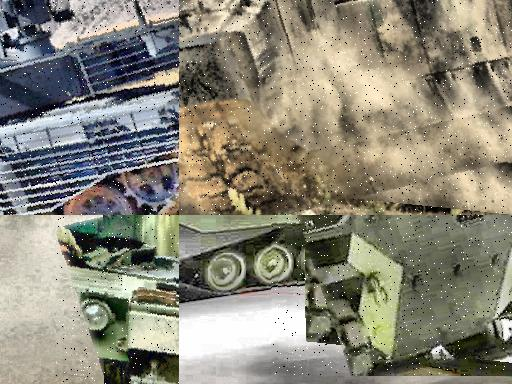tanks: (180, 1, 512, 216), (1, 1, 180, 216), (297, 216, 512, 376), (57, 216, 180, 384), (180, 216, 327, 295)
